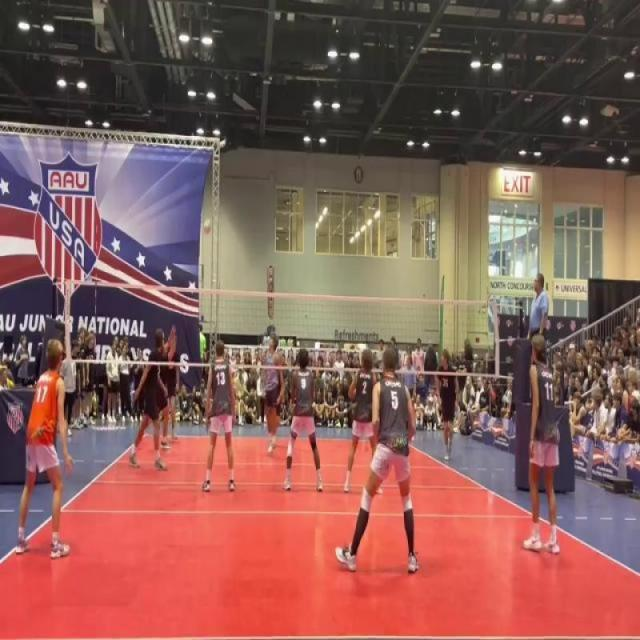volleyball: (202, 216, 214, 236)
